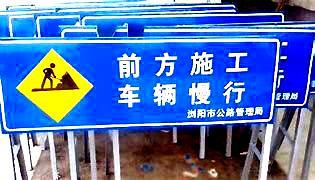sign: (1, 41, 280, 122)
